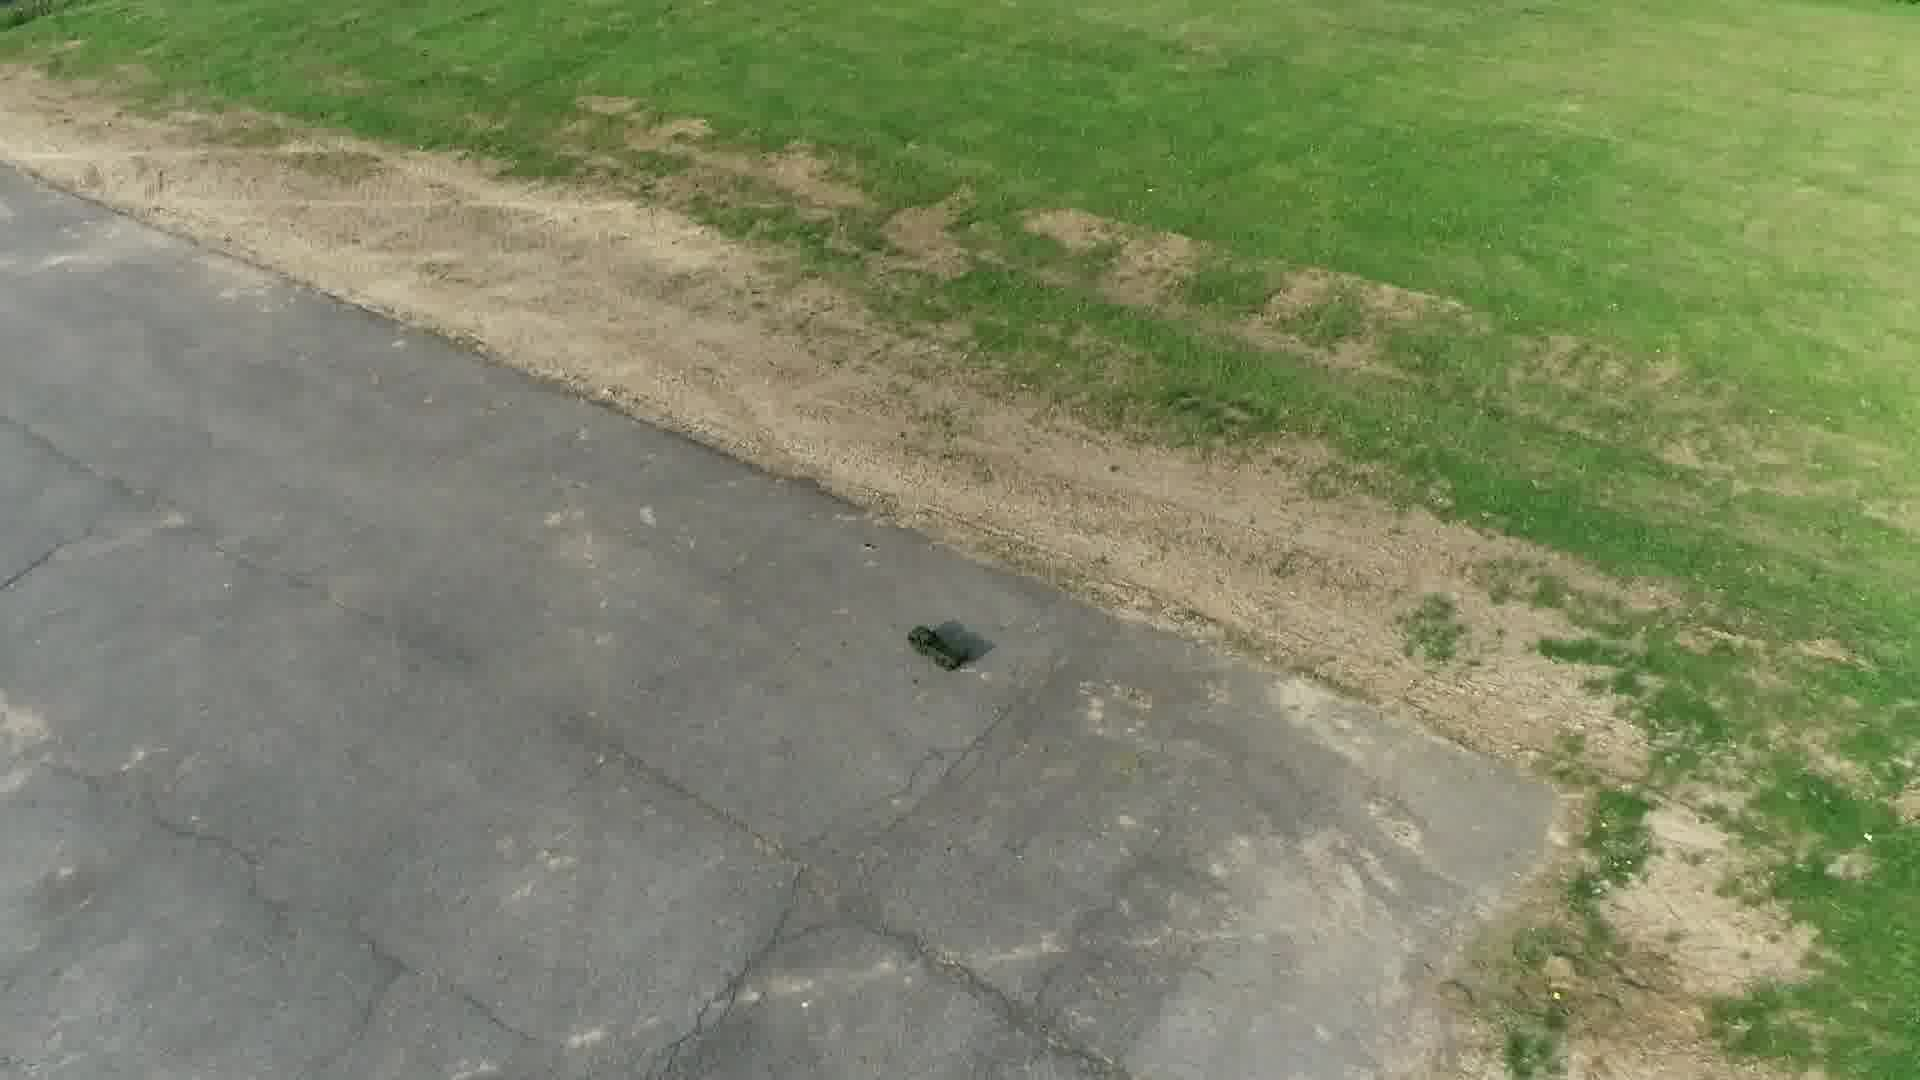transporter9: (903, 622, 973, 670)
